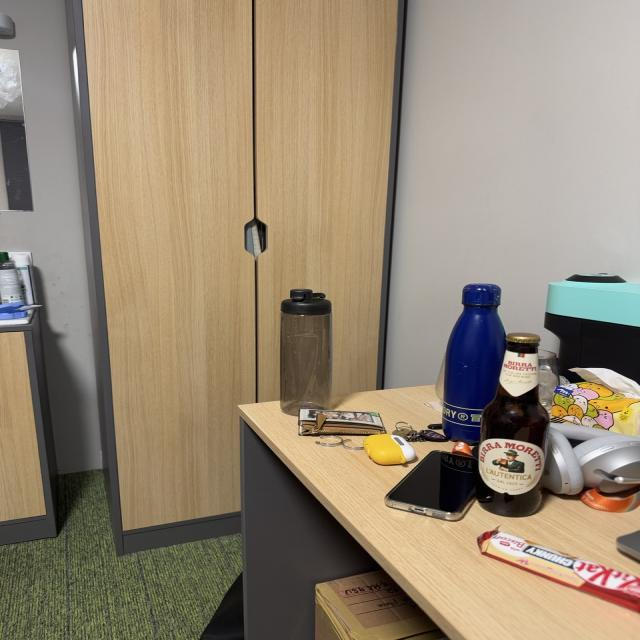beer: (478, 330, 551, 520)
chocolate: (475, 525, 640, 617)
